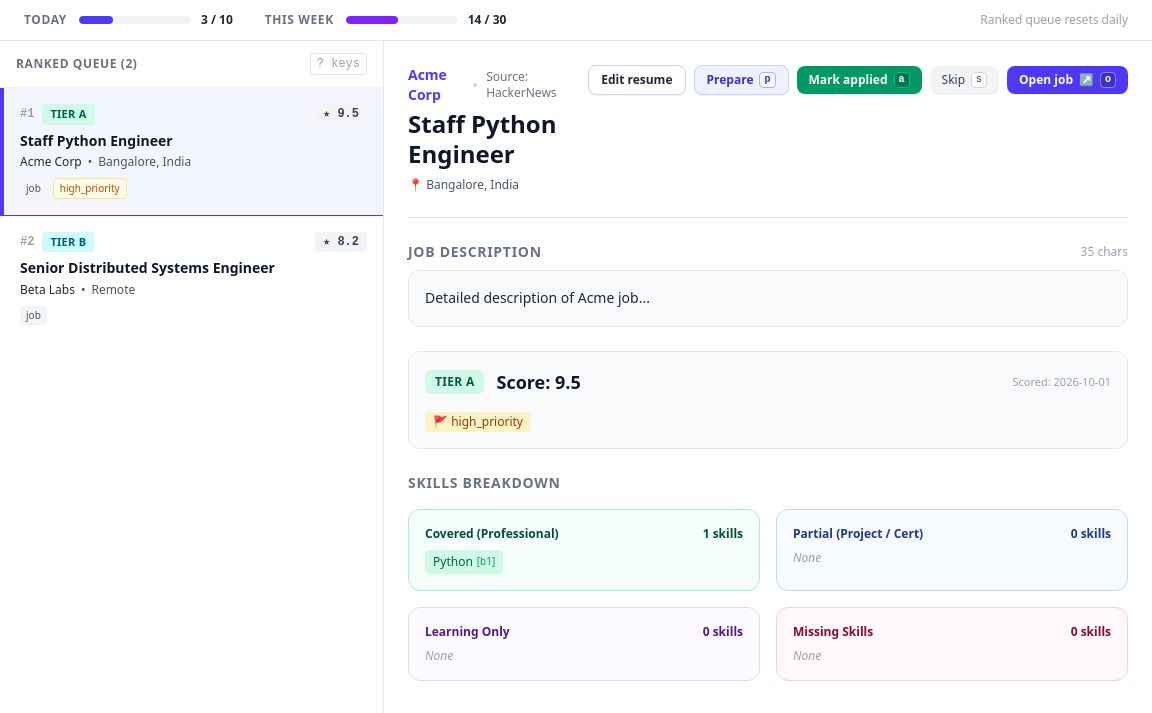
TodayPage Actions & Keyboard Controls (Phase 5c-1b) › optimistically removes marked job, advances selection to next job, updates progress strip
Expected: the text "3 / 10" is shown, [201,12,233,28]
// Open and submit mark dialog
Click the button with aria-label "mark job as applied": point(859, 80) [796,66,922,94]
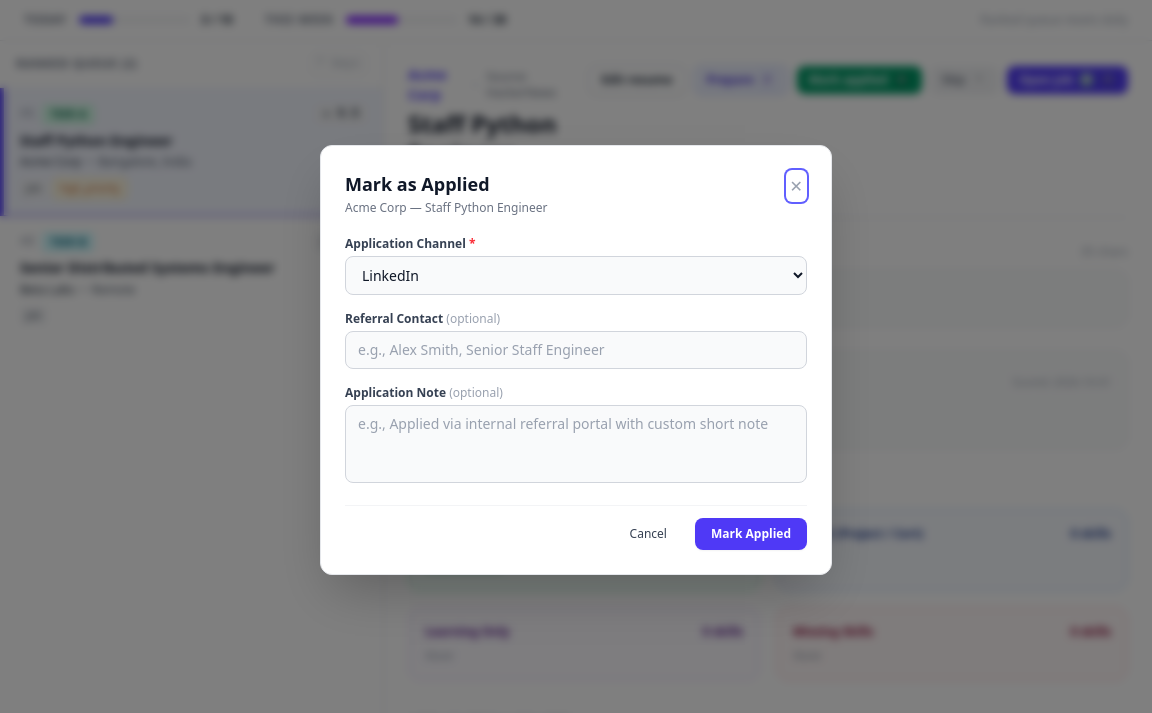
Click the button with aria-label "submit mark as applied": point(751, 534) [695,518,807,550]
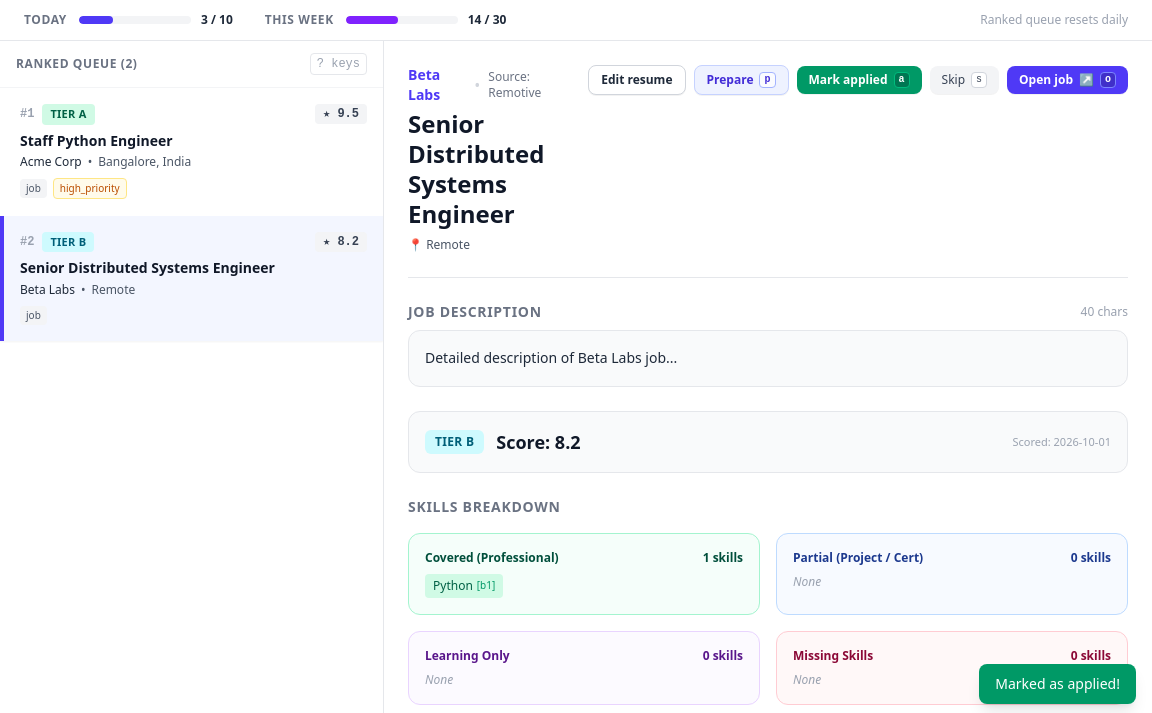
Expected: the option with test id "queue-item-2" is shown, [0,216,383,341]
Result: the text "Detailed description of Beta Labs job..." is shown at [408,330,1128,387]
